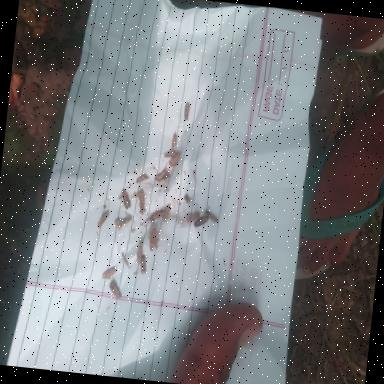pbw: (145, 207, 165, 227), (154, 166, 172, 186), (119, 187, 134, 210), (107, 282, 123, 300), (136, 187, 148, 210), (194, 214, 210, 230), (148, 225, 158, 250), (138, 253, 149, 275), (97, 212, 110, 230), (200, 210, 219, 222), (132, 172, 151, 184), (102, 266, 118, 280), (187, 211, 202, 225), (172, 125, 180, 151), (120, 214, 134, 228), (170, 150, 182, 166), (136, 240, 144, 264), (184, 101, 192, 122), (162, 206, 172, 222), (165, 150, 177, 158)
